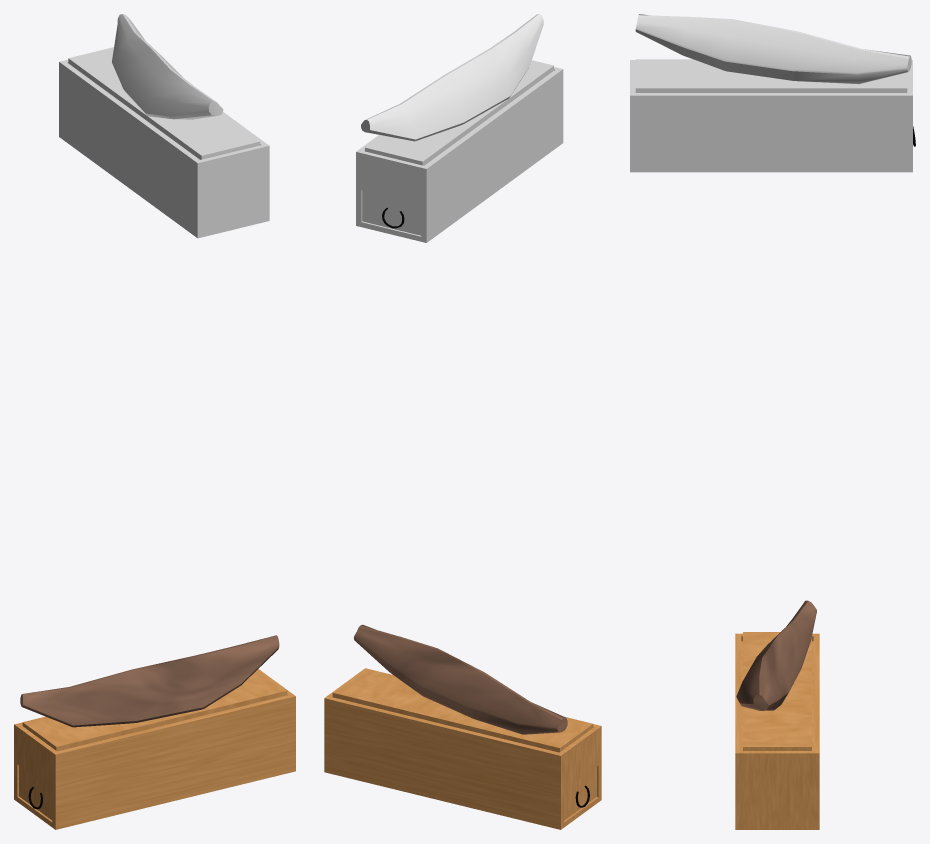
File: item9.fbx
3 views of the same model, side by side, from view 1: azimuth 30°, elevation 25°; view 2: azimuth 150°, elevation 25°; view 3: azimuth 270°, elevation 25° (orthographic). The views are drawn at different scales.
Parts seen in each view (by area): view 1: item09, item09 本体; view 2: item09, item09 本体; view 3: item09 本体, item09.
Boxes of the visible parts, x1,y1,x2,y2 form: item09: [14, 635, 295, 829]; item09 本体: [59, 14, 269, 238]; item09: [324, 624, 601, 829]; item09 本体: [356, 14, 563, 242]; item09 本体: [630, 14, 915, 172]; item09: [735, 600, 819, 829].
Size of the model in its own units: 50 by 145 by 50.
4 materials, 1 textured.
